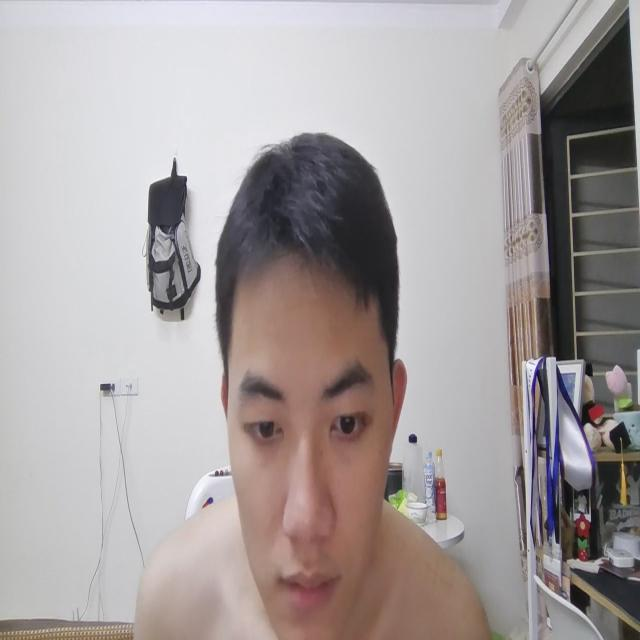student: (196, 117, 422, 640)
